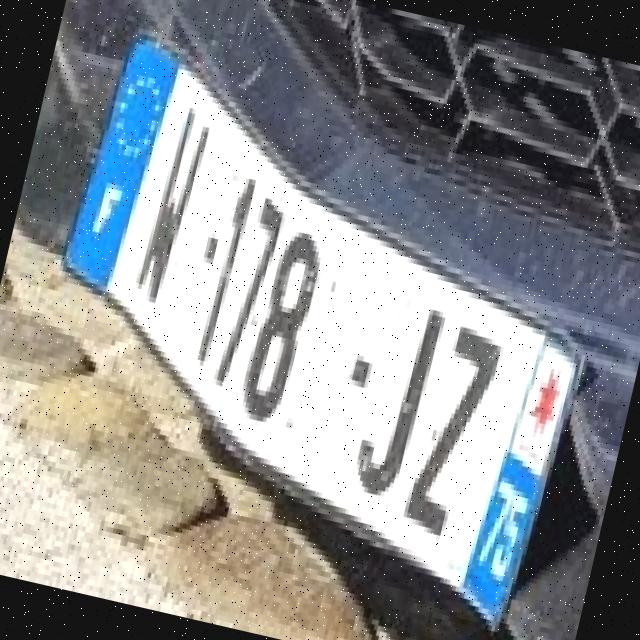EU: (58, 34, 580, 622)
France: (65, 42, 178, 291)
